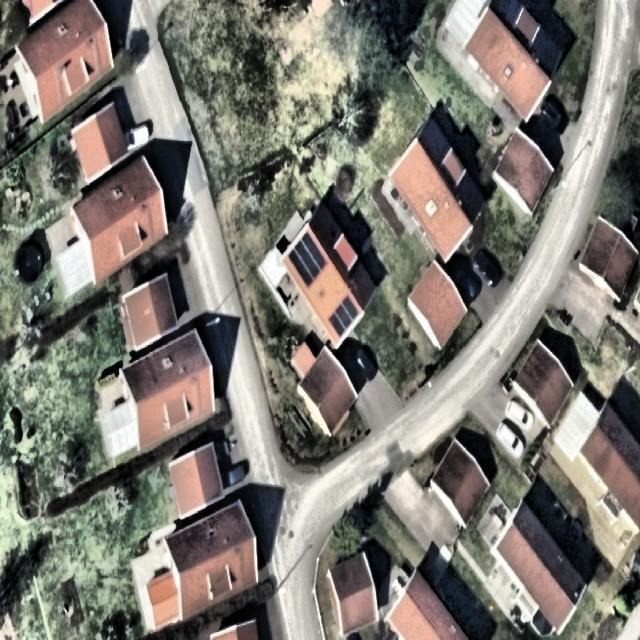roof_pv: (284, 228, 328, 288), (329, 290, 361, 340)
